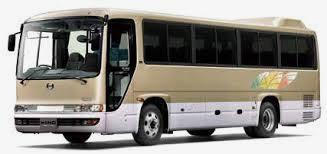bus: (14, 7, 319, 142)
